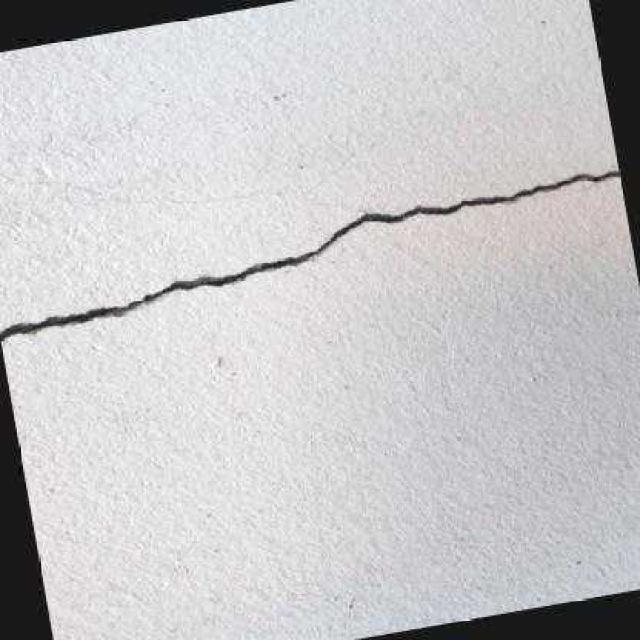D00: (0, 169, 620, 341)
